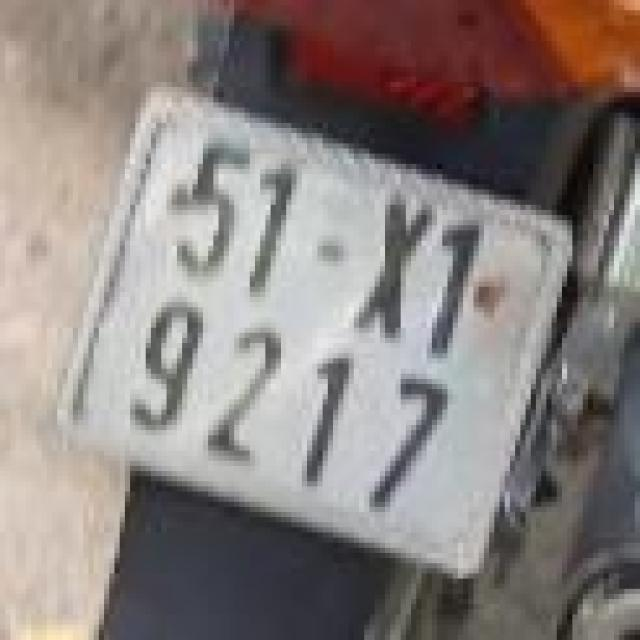1: (409, 205, 500, 369), (287, 342, 378, 499), (236, 157, 318, 315)
2: (192, 311, 313, 472)
5: (158, 126, 272, 291)
7: (359, 368, 469, 527)
9: (114, 282, 225, 444)
X: (346, 183, 457, 346)
